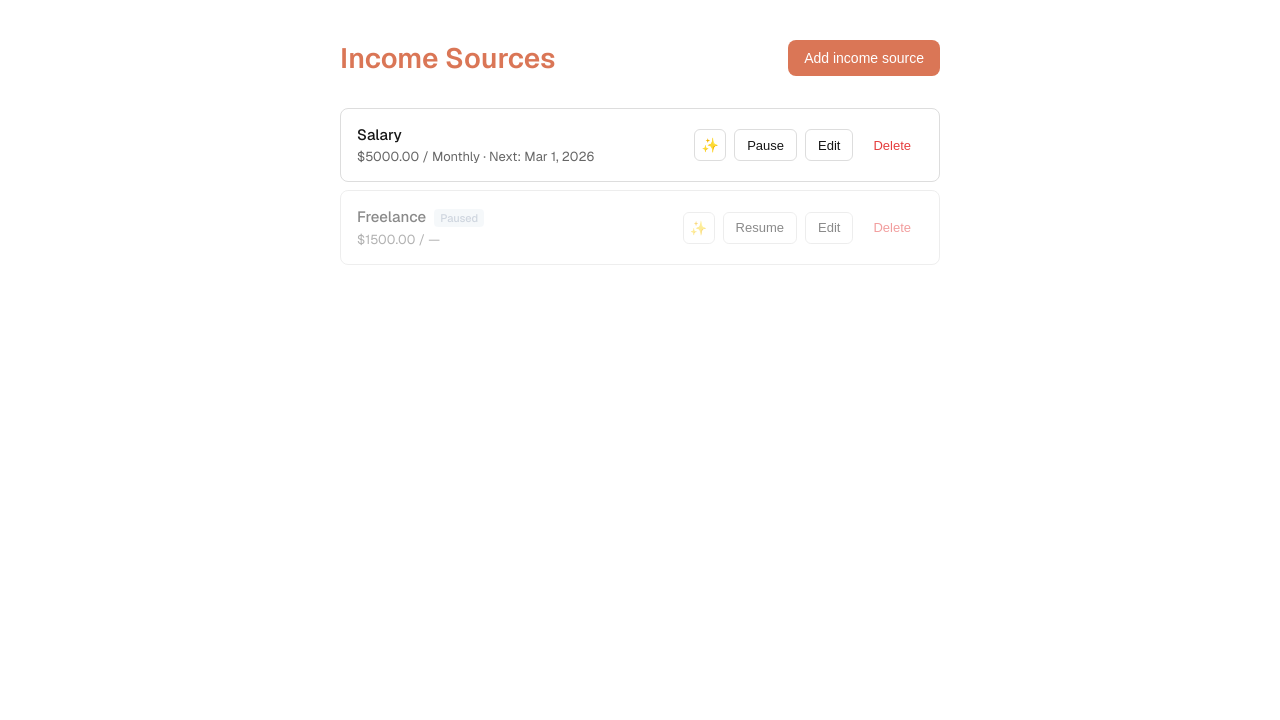
Test: IncomePage › deletes an income source after confirmation
This screenshot has width=1280, height=720.
expect the text "Salary" is shown: met, box [357,125,402,144]
Click the button with aria-label "Delete Salary". click: click(892, 145)
box: [861,129,923,161]
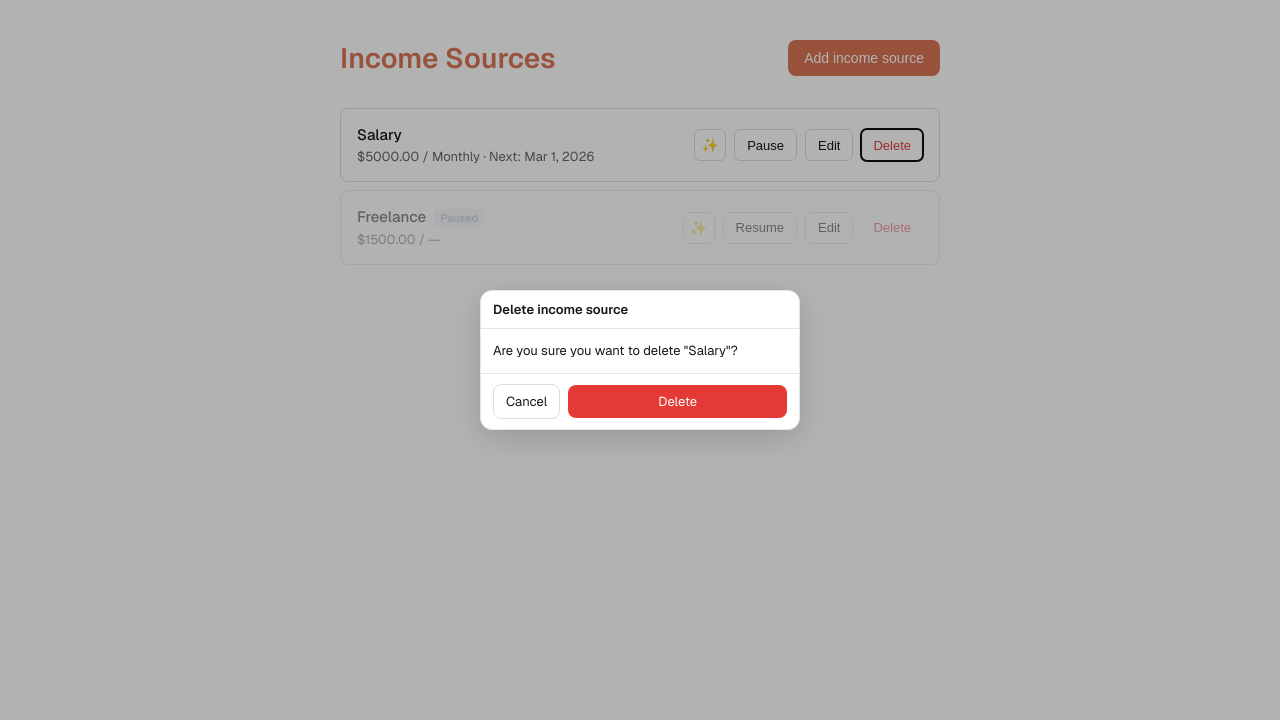
expect the dialog with test id "confirm-dialog" is shown: met, box [480,290,800,430]
expect the text with test id "confirm-dialog-message" reads "Are you sure you want to delete \"Salary\"?": met, box [493,342,738,359]
Click the button with test id "confirm-dialog-confirm". click: click(678, 401)
box: [568,385,787,418]
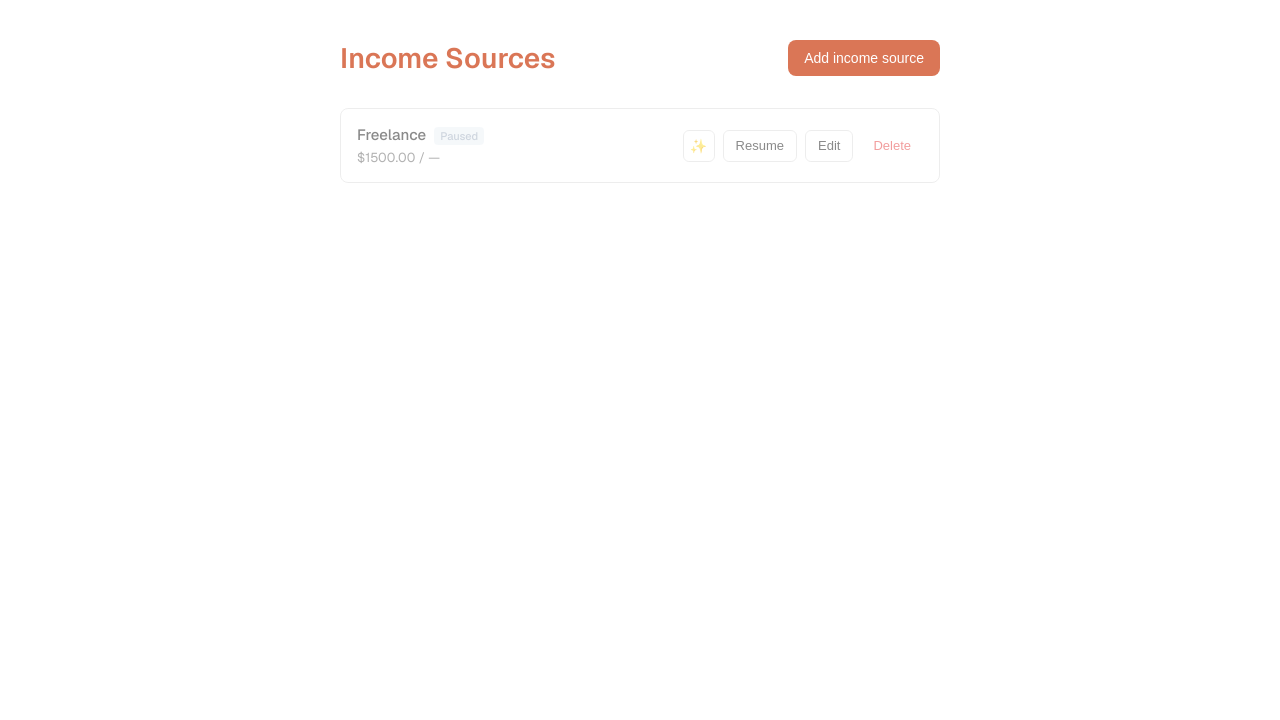
expect the text "Freelance" is shown: met, box [357,125,426,144]
expect the text "Salary" is gone: met
